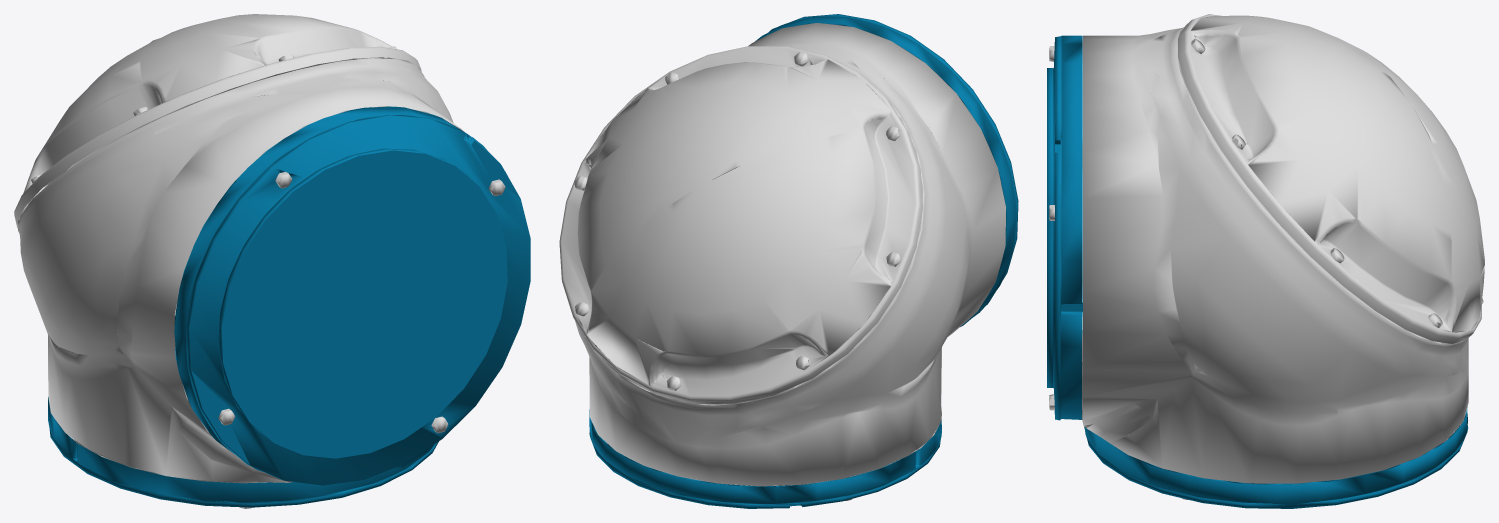
The picture shows the model from 3 angles, left to right: view 1: azimuth 30°, elevation 25°; view 2: azimuth 150°, elevation 25°; view 3: azimuth 270°, elevation 25°; orthographic projection. The views are drawn at different scales.
Parts seen in each view (by area): view 1: f_1-06vxhc10-b1_lk1; view 2: f_1-06vxhc10-b1_lk1; view 3: f_1-06vxhc10-b1_lk1.
Boxes of the visible parts, left/top/right/bottom form: f_1-06vxhc10-b1_lk1: left=14, top=14, right=530, bottom=508; f_1-06vxhc10-b1_lk1: left=559, top=14, right=1018, bottom=508; f_1-06vxhc10-b1_lk1: left=1047, top=14, right=1484, bottom=508.
Size of the model in its own units: 0.22 by 0.2182 by 0.2182.
